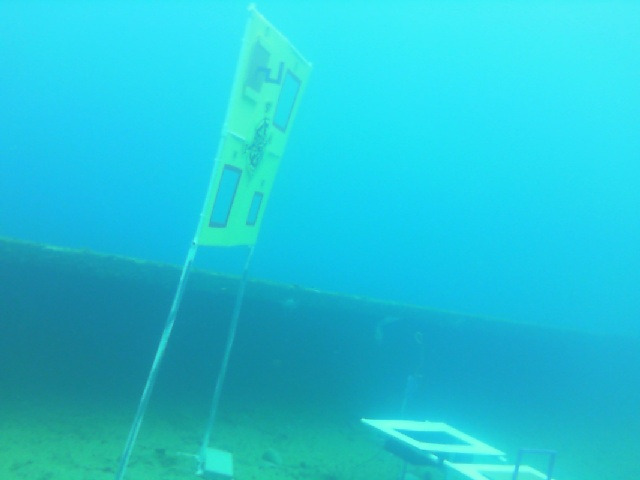torpedo_cover: (244, 46, 290, 99)
torpedo_hole: (201, 165, 245, 232), (269, 69, 304, 134), (246, 191, 267, 225)
torpedo_target: (187, 4, 319, 259)
